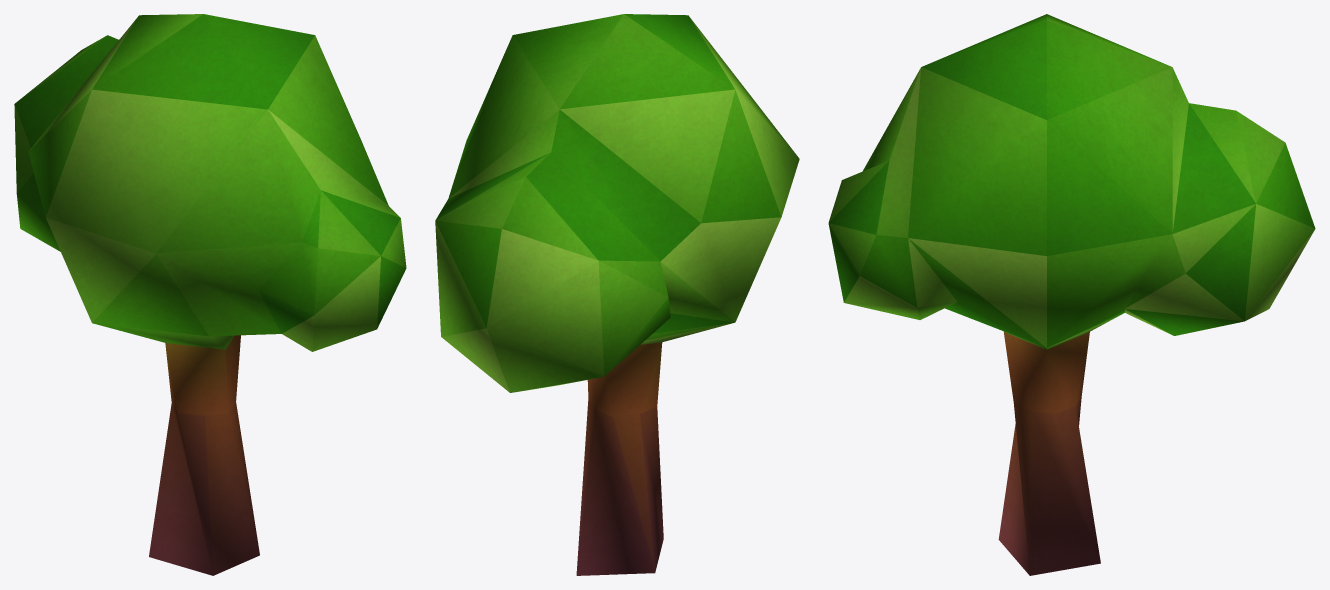
File: Tree-01.fbx
3 renders of one model, left to right at view 1: azimuth 30°, elevation 25°; view 2: azimuth 150°, elevation 25°; view 3: azimuth 270°, elevation 25°, orthographic. The views are drawn at different scales.
Parts seen in each view (by area): view 1: Tree-01; view 2: Tree-01; view 3: Tree-01.
Part boxes in pixels (bbox=[...]): Tree-01: bbox=[14, 14, 406, 575]; Tree-01: bbox=[435, 14, 799, 575]; Tree-01: bbox=[828, 14, 1315, 575].
Bounding box in the file's own units: 0.4694 × 0.7781 × 0.6429.
